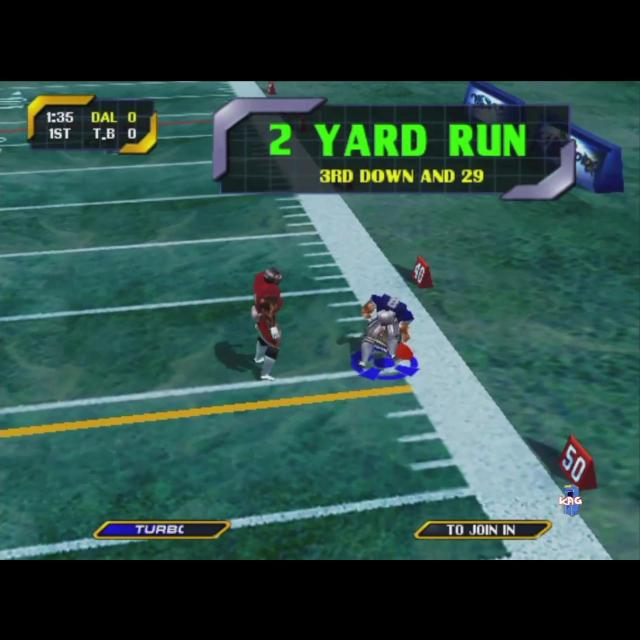player: (359, 292, 413, 370), (250, 267, 284, 381)
